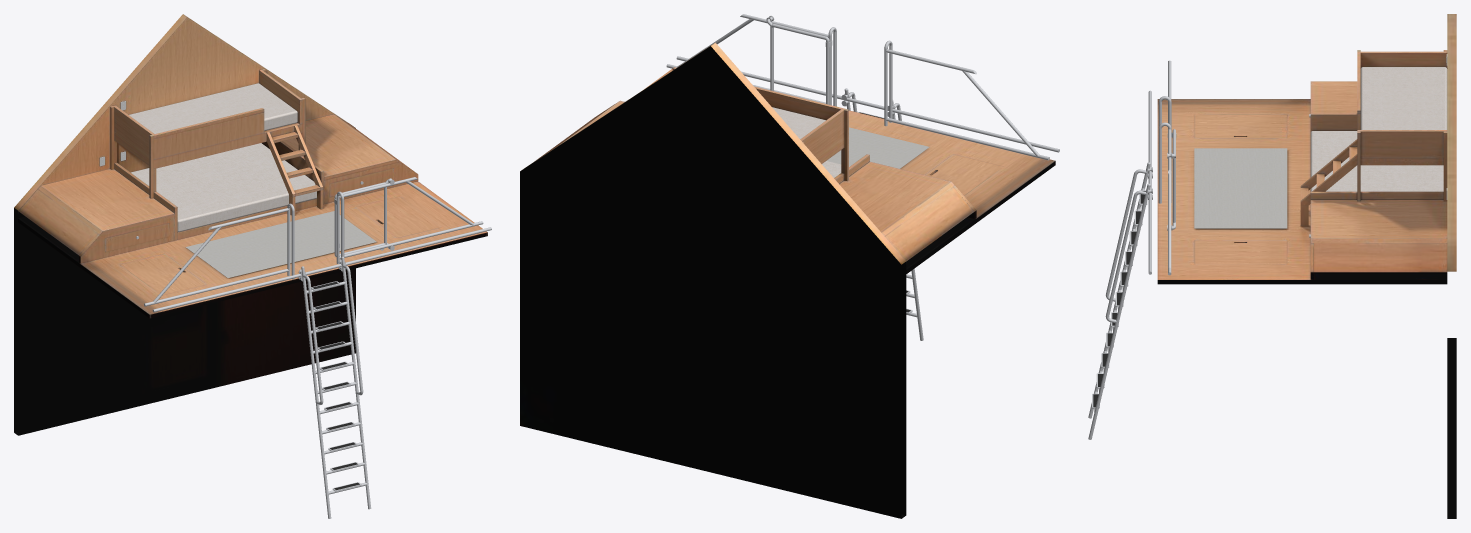
The model's file is Mezzanine Bunk no light.glb.
The picture shows the model from 3 angles, left to right: view 1: azimuth 30°, elevation 25°; view 2: azimuth 150°, elevation 25°; view 3: azimuth 270°, elevation 25°; orthographic projection. The views are drawn at different scales.
Parts seen in each view (by area): view 1: Interior_Wood_Black_Base_Bed1.001, Interior_Wood_Bed, White_fabric_Bed, Alumininum_1_Bed; view 2: Interior_Wood_Black_Base_Bed1.001, Interior_Wood_Bed, Alumininum_1_Bed, White_fabric_Bed; view 3: Interior_Wood_Bed, White_fabric_Bed, Alumininum_1_Bed, Interior_Wood_Black_Base_Bed1.001.
Boxes of the visible parts, x1,y1,x2,y2 form: Interior_Wood_Black_Base_Bed1.001: (14, 14, 355, 435); Interior_Wood_Bed: (18, 69, 487, 318); White_fabric_Bed: (129, 83, 376, 278); Alumininum_1_Bed: (136, 177, 491, 518); Interior_Wood_Black_Base_Bed1.001: (520, 42, 906, 518); Interior_Wood_Bed: (537, 67, 1055, 273); Alumininum_1_Bed: (666, 14, 1059, 340); White_fabric_Bed: (772, 107, 929, 177); Interior_Wood_Bed: (1157, 50, 1447, 284); White_fabric_Bed: (1194, 67, 1447, 228); Alumininum_1_Bed: (1088, 60, 1310, 439); Interior_Wood_Black_Base_Bed1.001: (1447, 14, 1456, 518).
Bounding box in the file's own units: 1.88 × 2.01 × 1.62.
7 materials, 5 textured.
